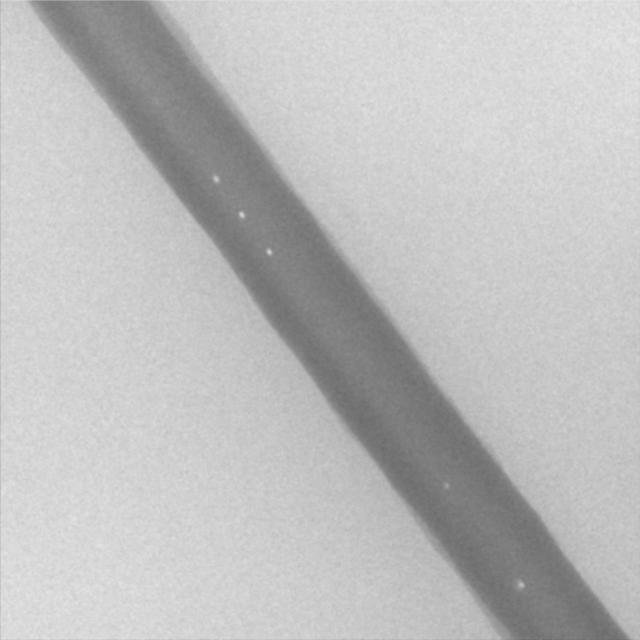air hole: (209, 172, 220, 184), (515, 579, 526, 591), (440, 480, 450, 491), (236, 208, 245, 220), (264, 245, 272, 257)
